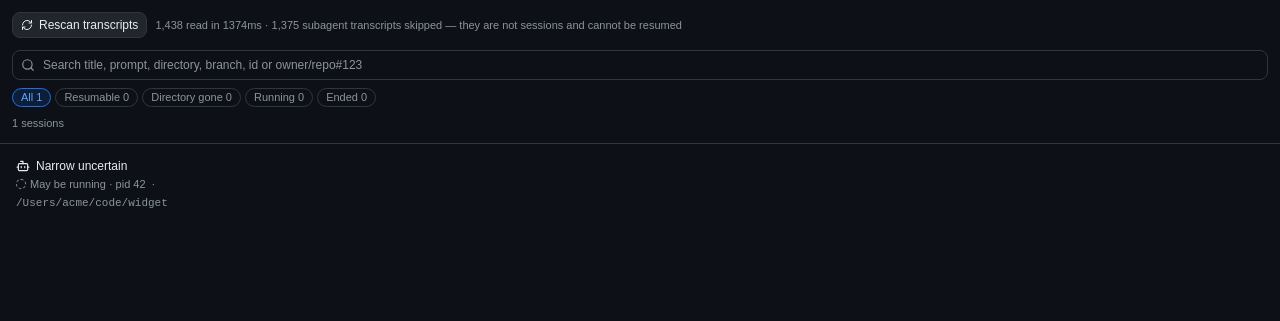
Scenario: opens bounded possible process details on a narrow desktop without adding controls
Expected: the text "May be running · pid 42" is shown, [30,176,146,192]
Expected: the text "pid 42 · folder unknown" is not shown
Click the button "Narrow uncertain": coordinates (82, 166) [8,152,1272,217]
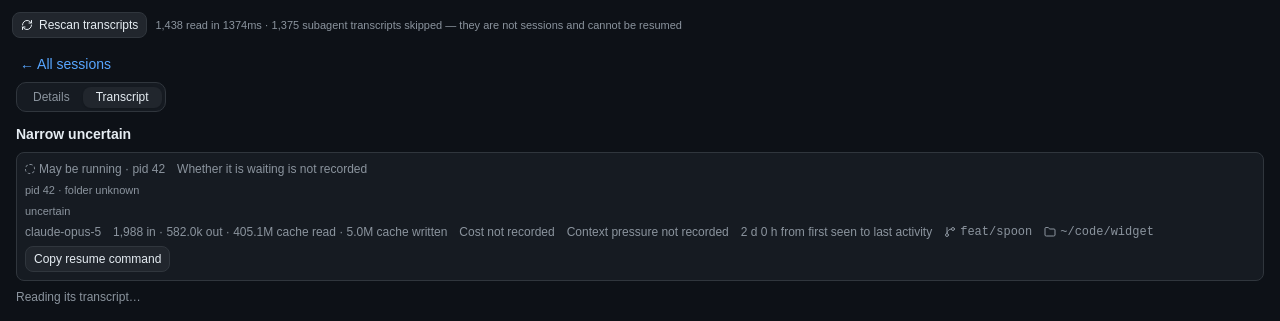
Expected: the text "pid 42 · folder unknown" is shown, [25,184,139,196]
